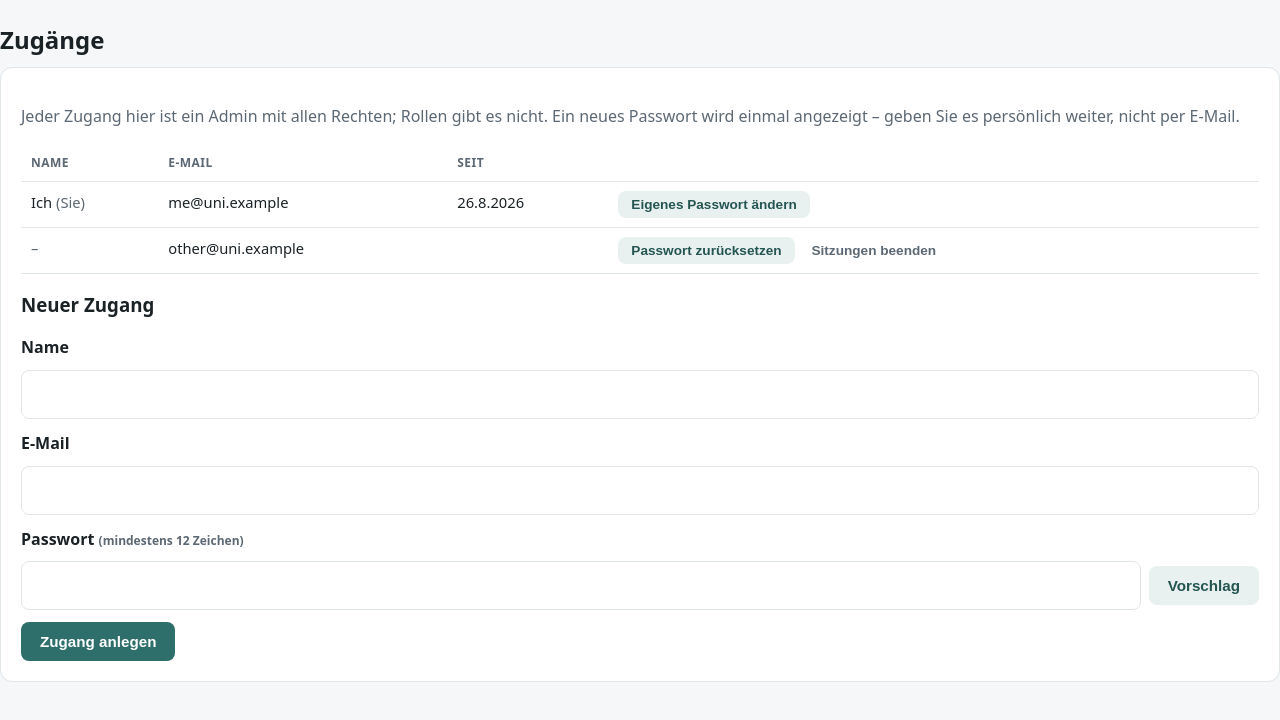
Test case: resetting a password sets it on the server and shows it once
Expected: the text "other@uni.example" is shown, [158, 228, 447, 274]
Click the button "Passwort zurücksetzen" at (706, 251), box [618, 237, 795, 264]
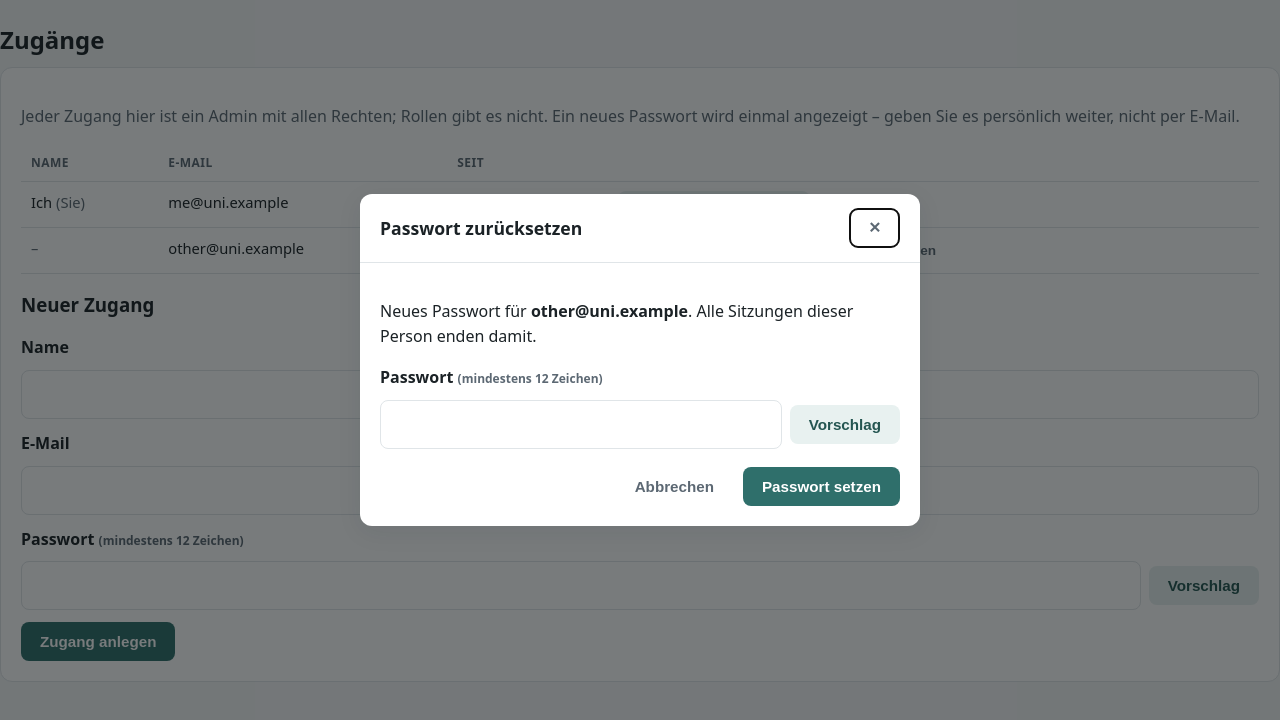
Click the button "Passwort setzen" at (822, 486), box [743, 467, 900, 506]
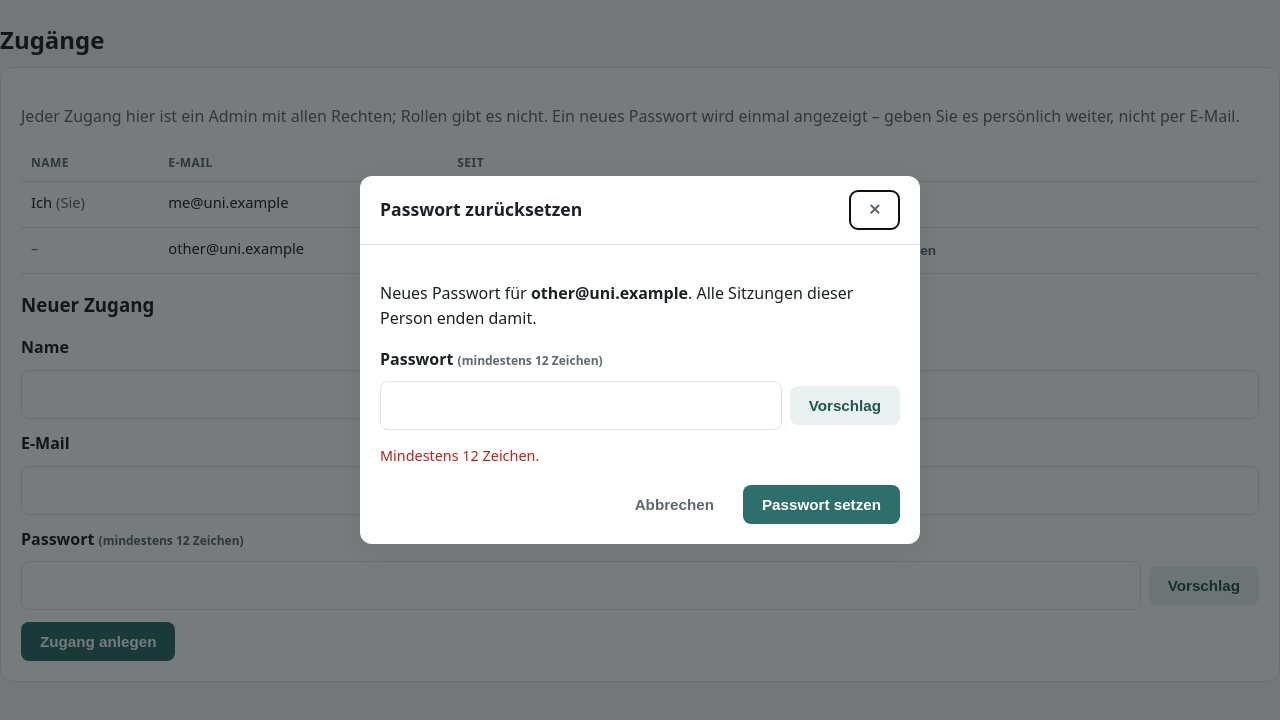
Expected: the text "Mindestens 12 Zeichen." is shown, [380, 446, 539, 465]
Type "handed-over-in-person" into the field labelled "Passwort (mindestens 12 Zeichen)" at (581, 406), box [380, 381, 782, 430]
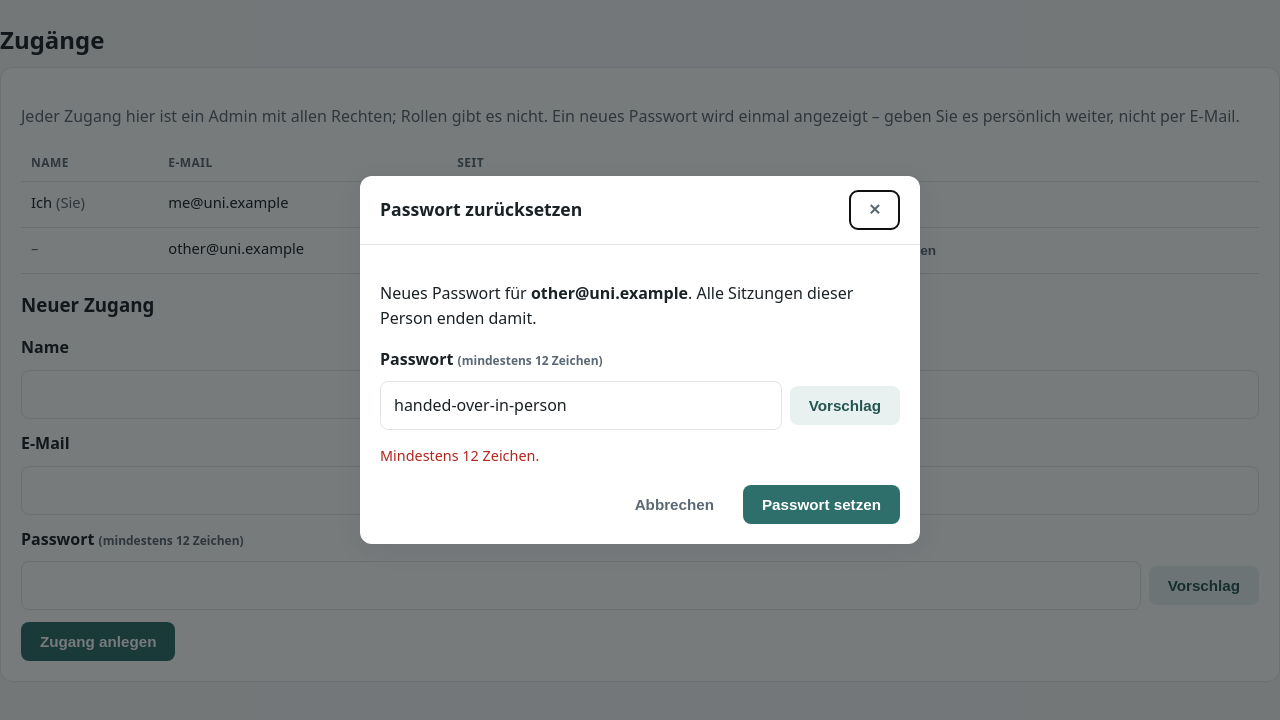
Click the button "Passwort setzen" at (822, 504), box [743, 485, 900, 524]
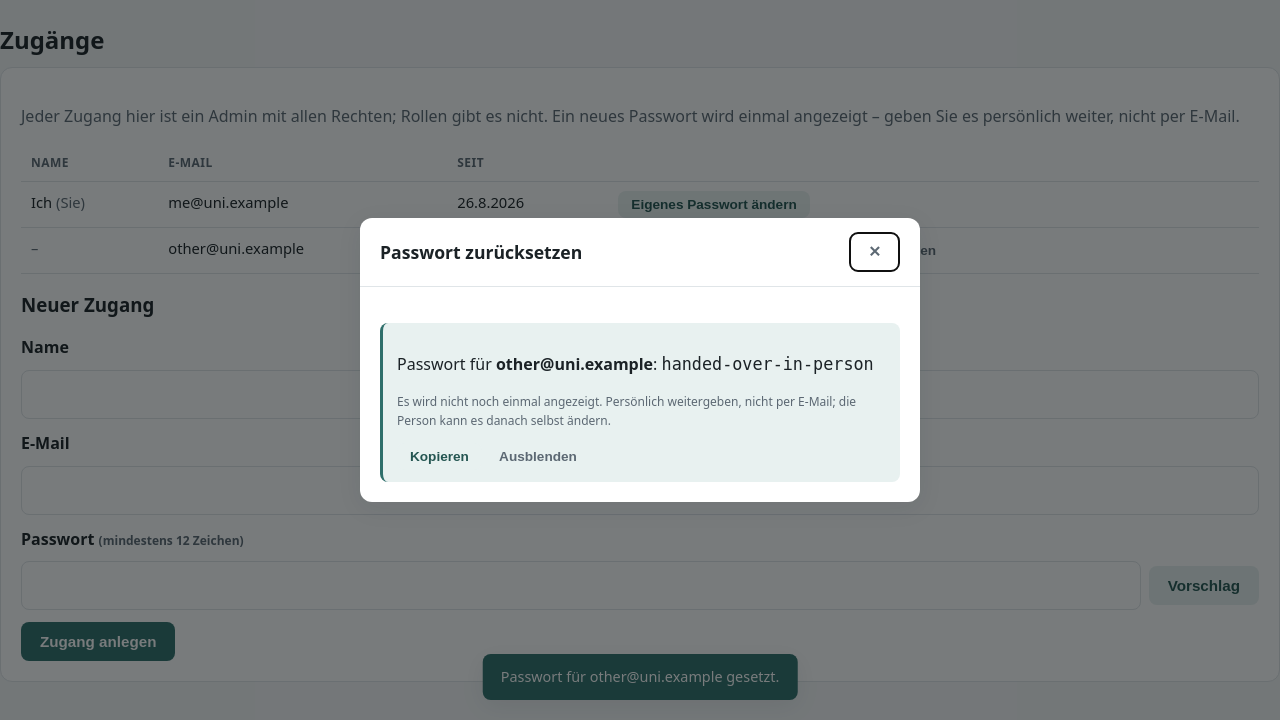
Expected: the message shows "handed-over-in-person", [662, 354, 874, 374]
